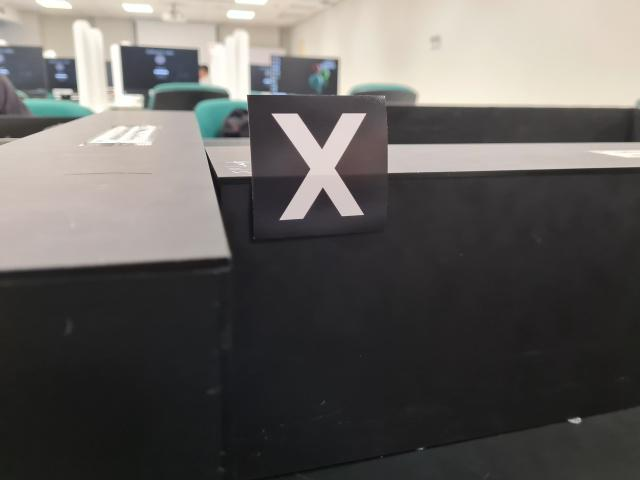x: (246, 94, 389, 241)
